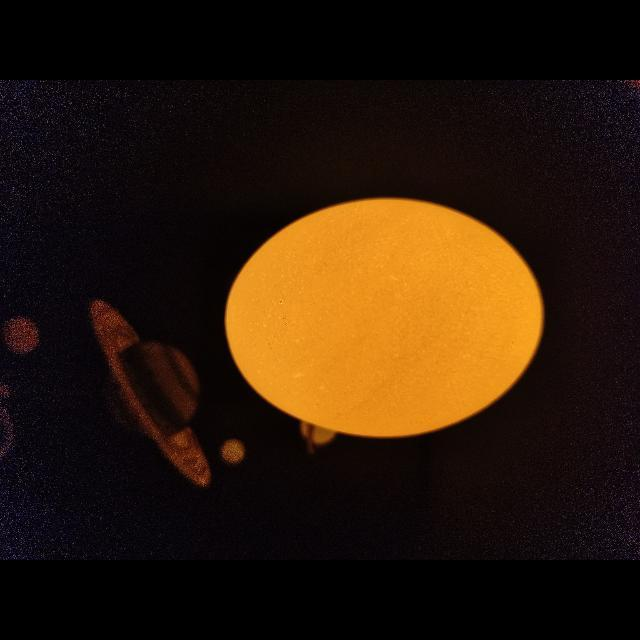AA - Premium: (225, 199, 544, 438)
